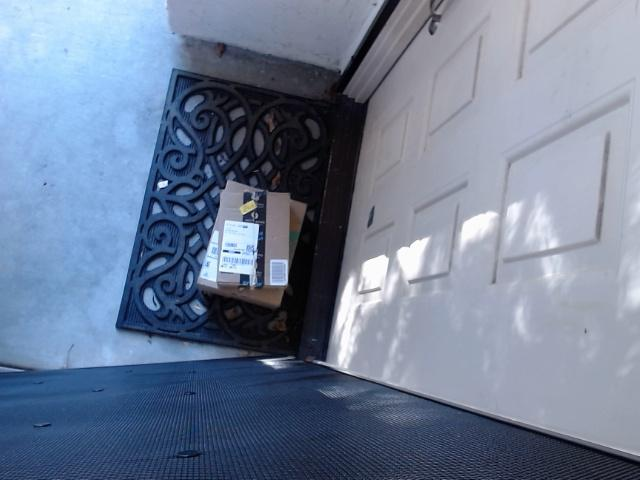box: (195, 171, 309, 323), (204, 181, 297, 294)
